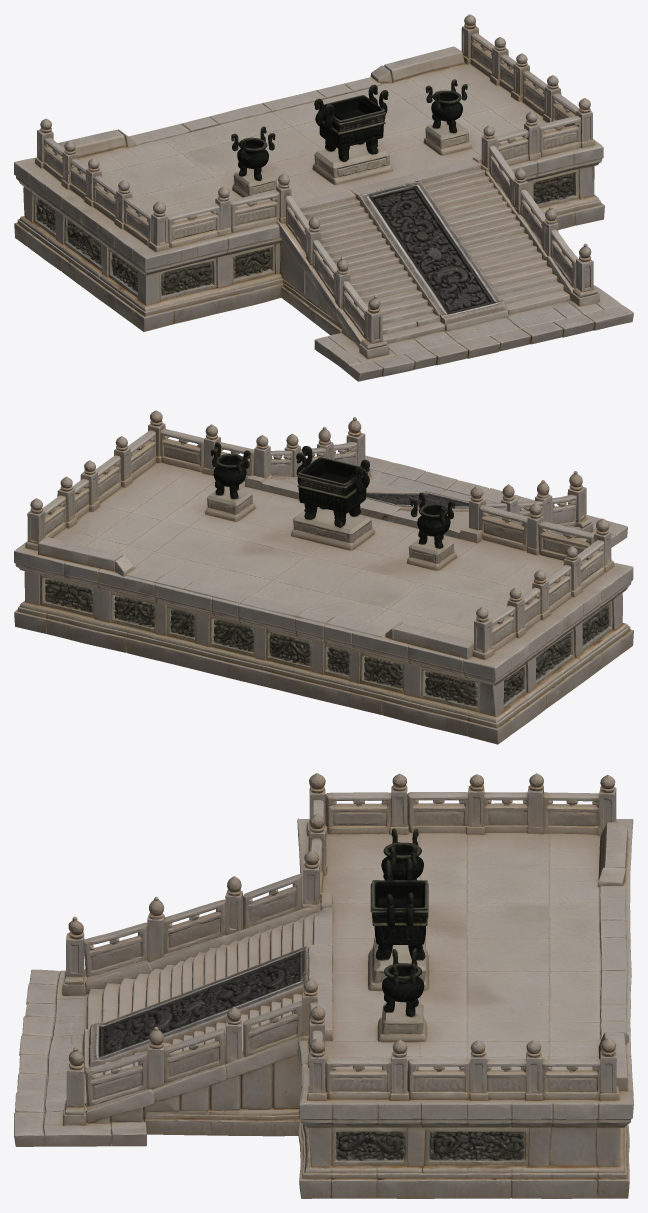
File: terrace.glb
3 renders of one model, top to bottom at view 1: azimuth 30°, elevation 25°; view 2: azimuth 150°, elevation 25°; view 3: azimuth 270°, elevation 25°, orthographic. The views are drawn at different scales.
Parts seen in each view (by area): view 1: model; view 2: model; view 3: model.
Part boxes in pixels (left/top/right/bottom): model: left=14, top=14, right=633, bottom=381; model: left=14, top=410, right=633, bottom=744; model: left=14, top=773, right=633, bottom=1198.
Bounding box in the file's own units: 1.9 × 0.586 × 1.74.
Materials: 1 (1 with a texture image).
